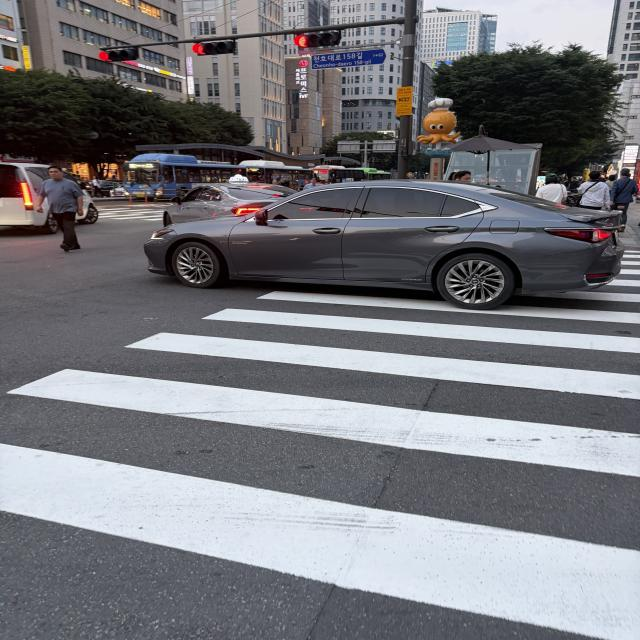car: (135, 169, 628, 308), (0, 158, 114, 240), (118, 151, 256, 208)
